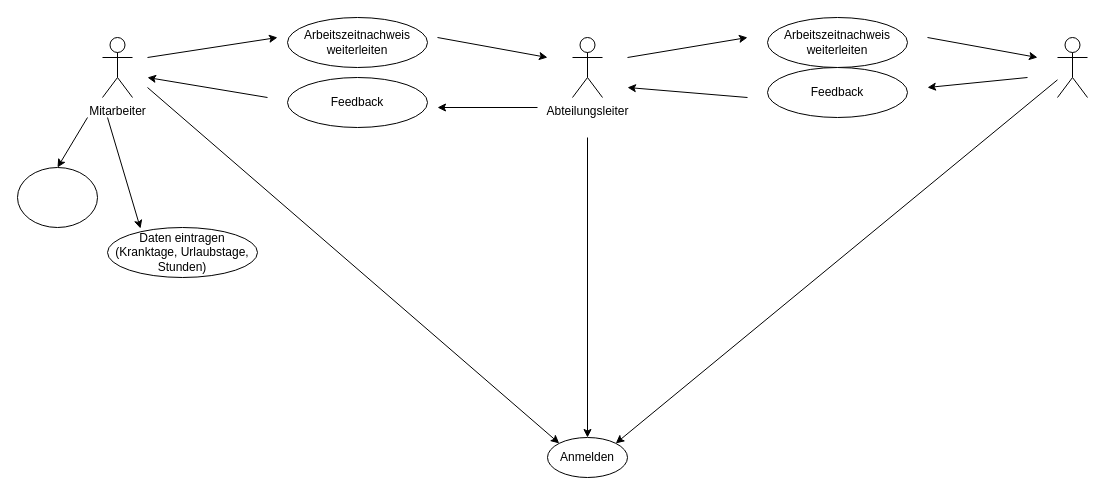
The diagram is 1105 pixels wide and 495 high, and some of its shapes have lost their labels. Each missing label, with the centre of its shape:
"eigene Statistik einsehen" goes at [57,197].
"HR" goes at [1072,67].
